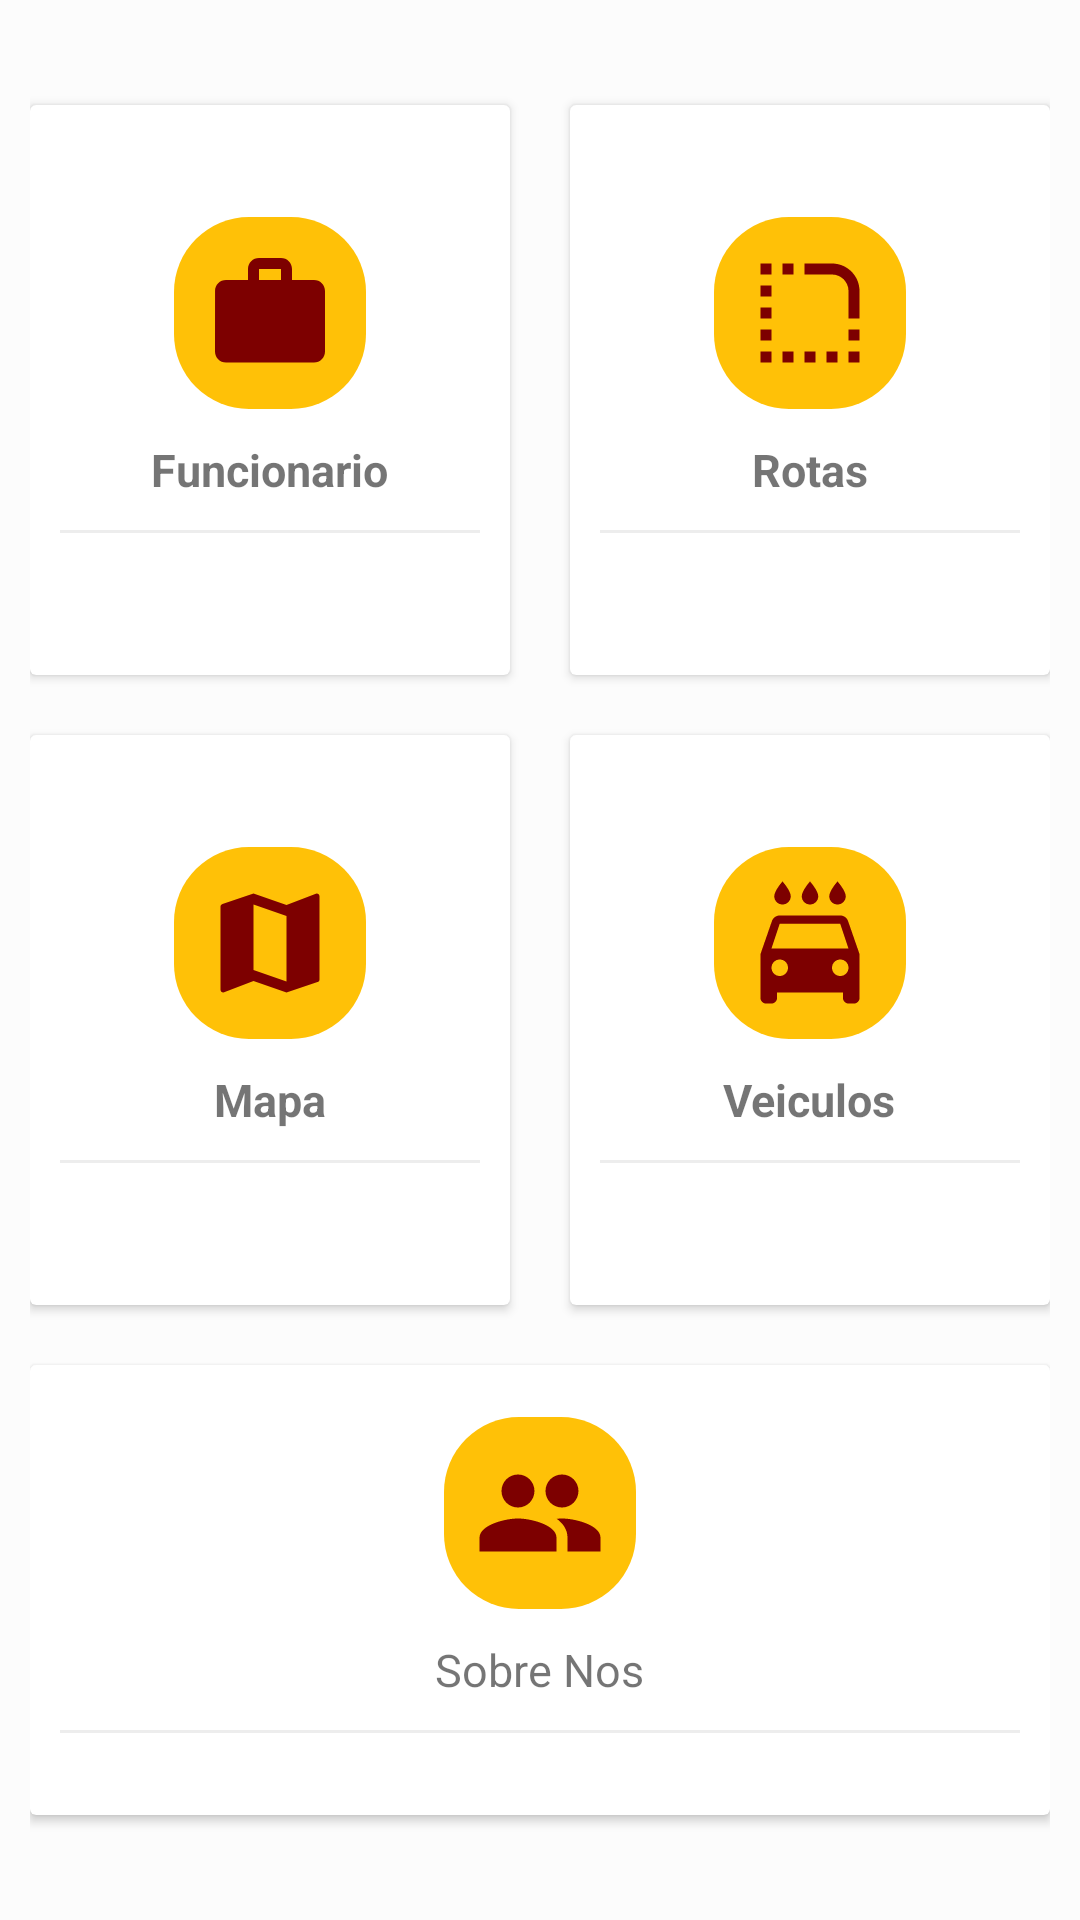

Where to tap for icons on this 1080x1920 app screen, as point (x, y):
corner: point (810, 313)
local car wash: point (810, 943)
work: point (270, 313)
